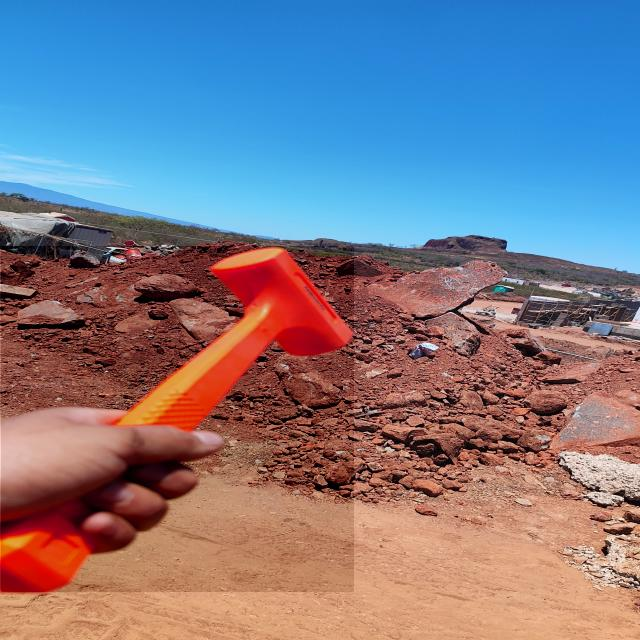Orange_hammer: (1, 246, 354, 592)
